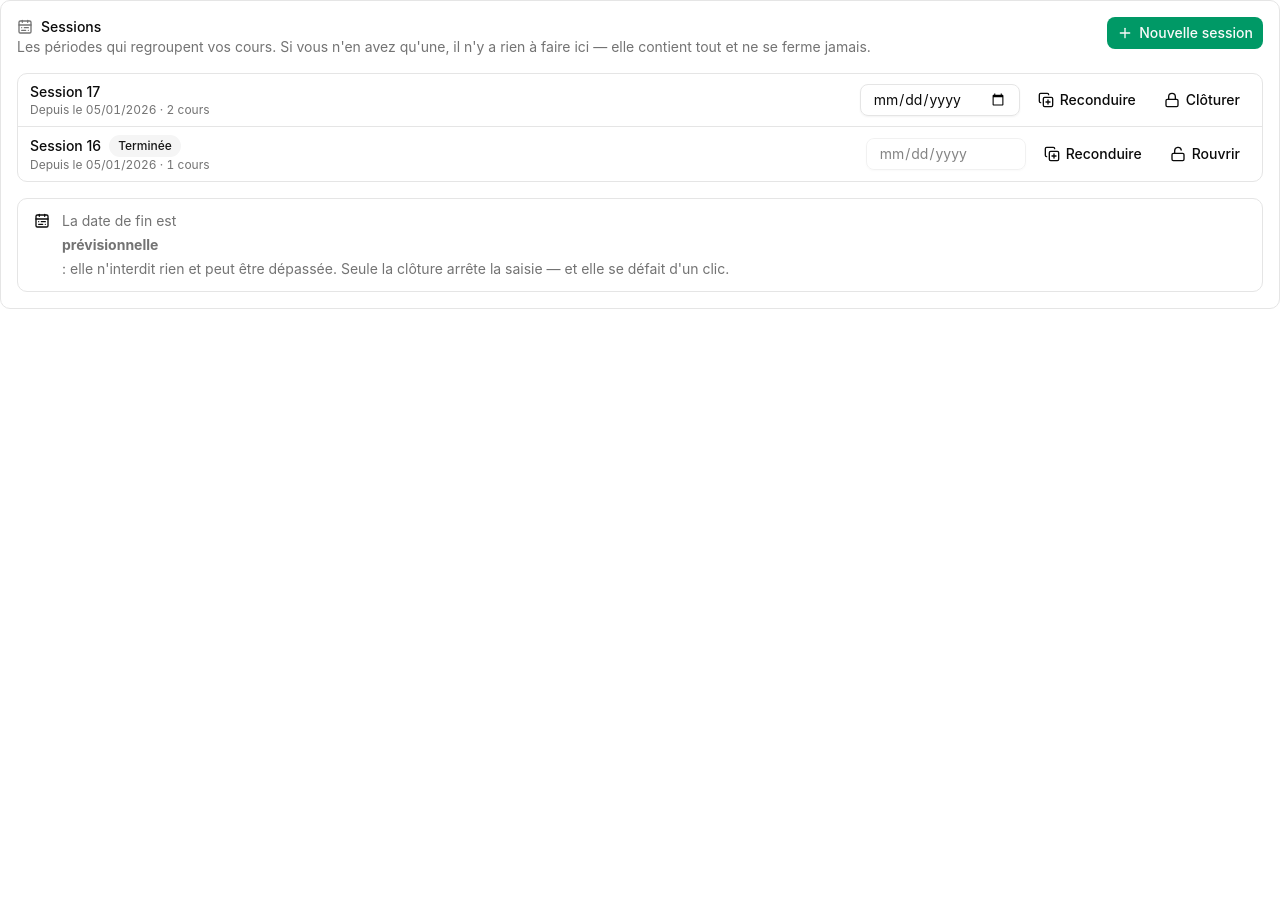
SectionSessions › compte les séances tenues, cours par cours, avant de clôturer
Click the button "Clôturer".
click(1202, 100)  # box x1=1154 y1=84 x2=1250 y2=116
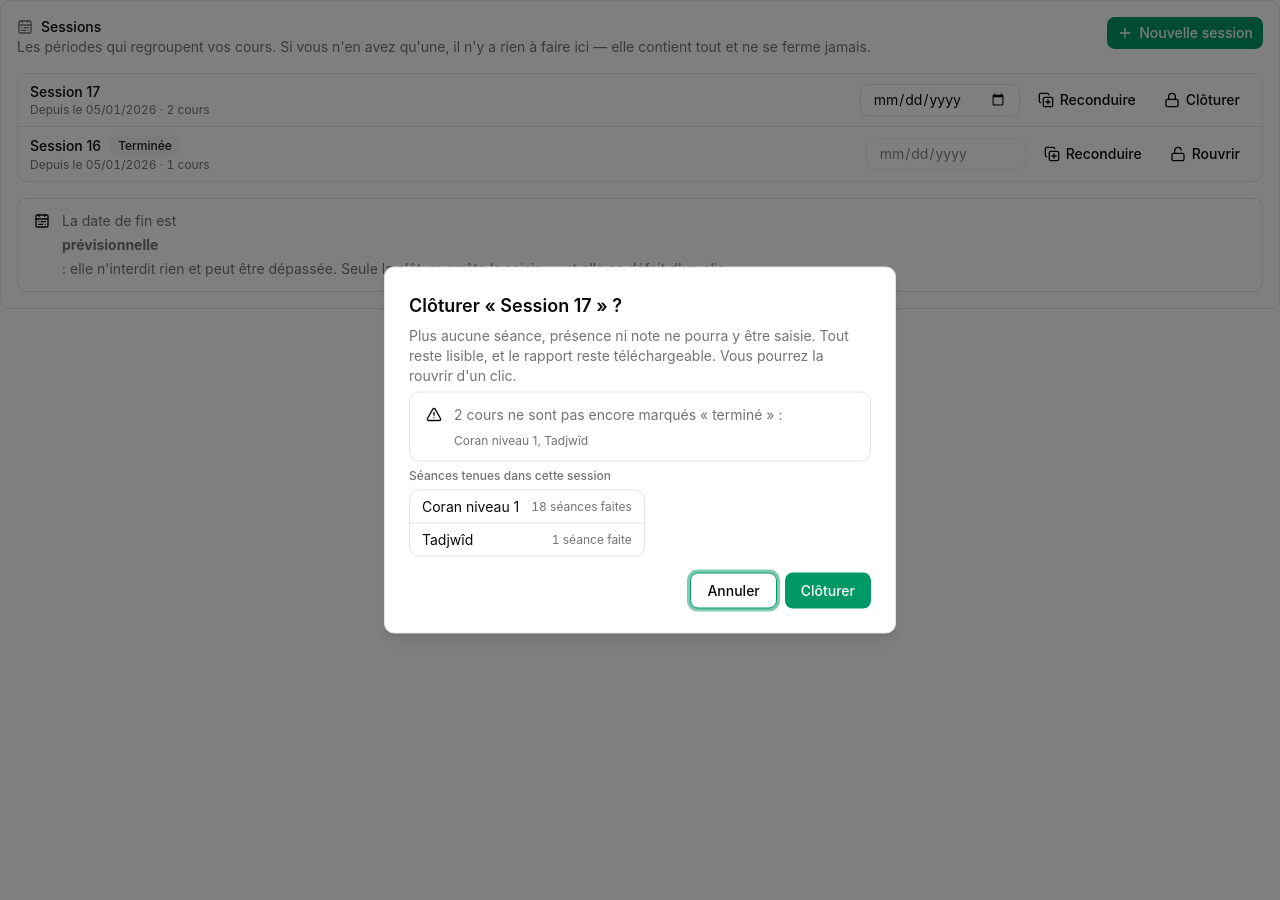
Expected: the text "Séances tenues dans cette session" is shown, x1=409 y1=468 x2=645 y2=484
Expected: the text "18 séances faites" is shown, x1=531 y1=498 x2=632 y2=514
Expected: the text "1 séance faite" is shown, x1=552 y1=532 x2=632 y2=548
